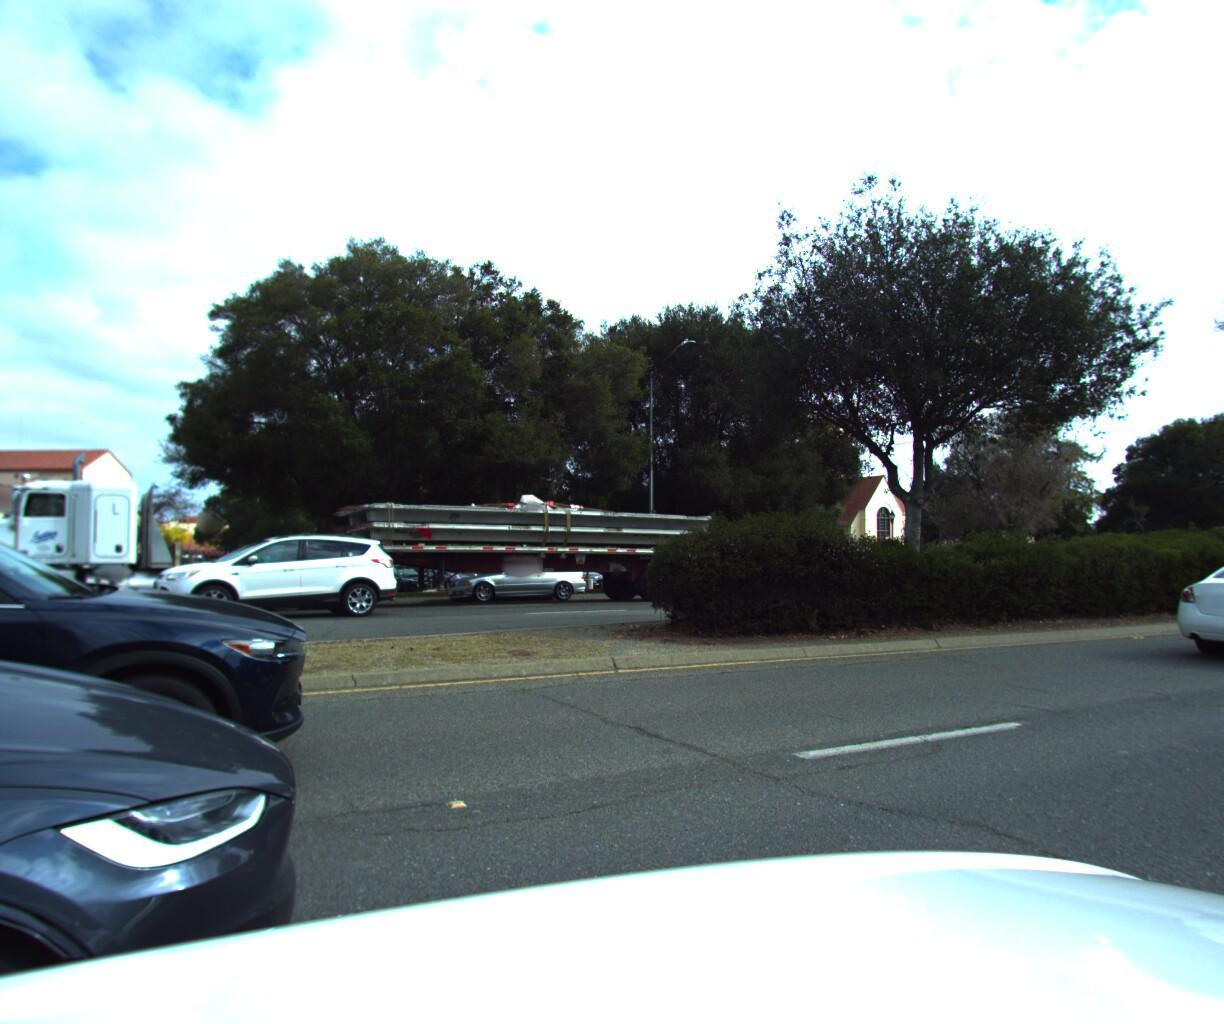car: (0, 448, 326, 949), (127, 523, 392, 622), (1153, 535, 1224, 673), (435, 553, 591, 602)
truck: (0, 413, 748, 631)
